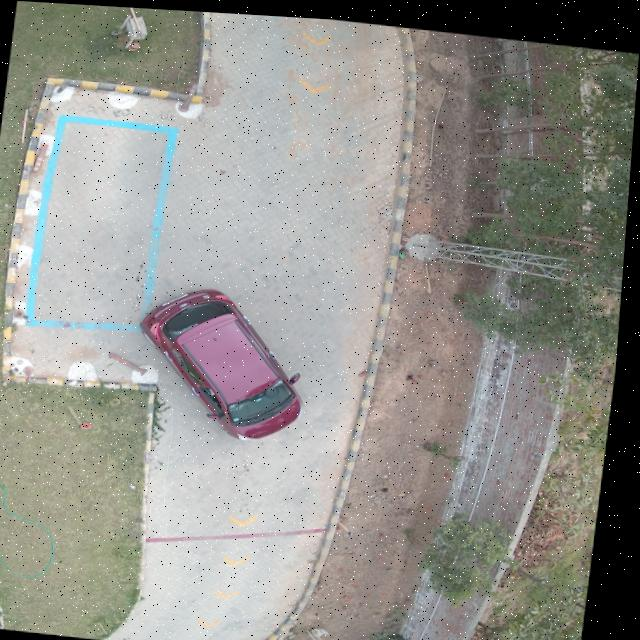car: (145, 287, 308, 437)
